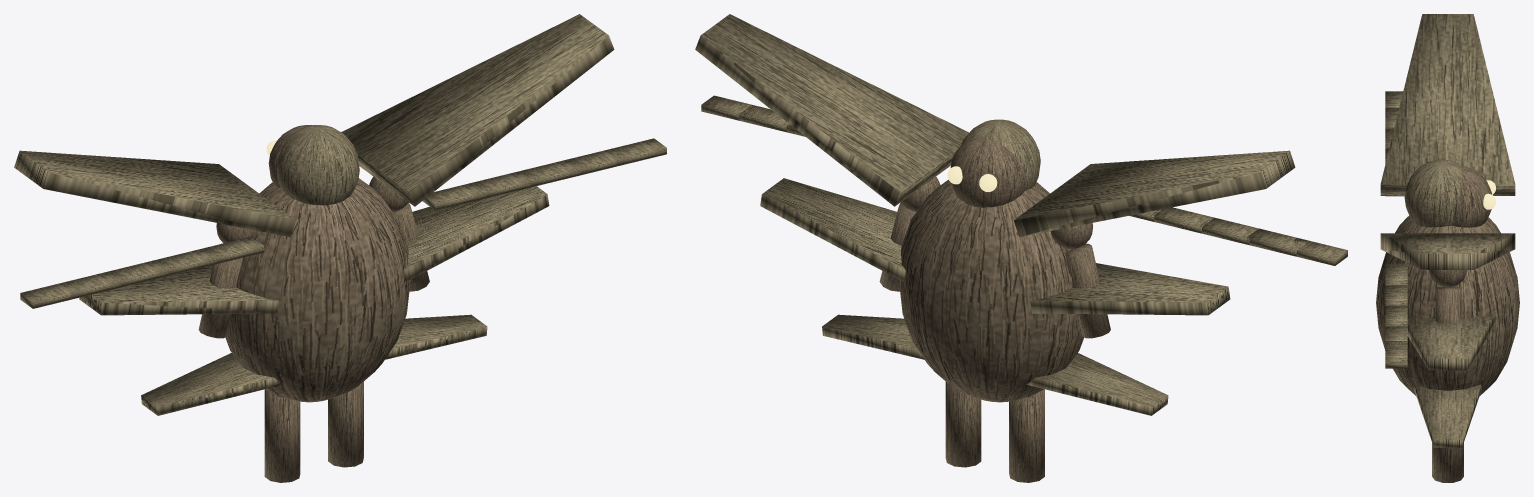
File: seraph.glb
The picture shows the model from 3 angles, left to right: view 1: azimuth 30°, elevation 25°; view 2: azimuth 150°, elevation 25°; view 3: azimuth 270°, elevation 25°; orthographic projection. The views are drawn at different scales.
Parts seen in each view (by area): view 1: Torso, WingHigh.001, WingHigh, WingMid.001, WingMid, HairStrands, WingLow, Leg, WingLow.001, Leg.001, Arm, Feather.005 (+10 smaller); view 2: Torso, WingHigh.001, WingHigh, WingMid.001, WingMid, WingLow, Head, Leg, Leg.001, WingLow.001, HairStrands, Arm (+8 smaller); view 3: WingHigh, Torso, WingHigh.001, WingMid.001, HairStrands, WingLow.001, Head, Leg.001, Arm.001, Feather.009, ShoulderJoint.001, Feather.005 (+6 smaller).
Part boxes in pixels (x1,y1,x2,y2): Torso: [225, 178, 410, 402]; WingHigh.001: [341, 14, 614, 206]; WingHigh: [14, 150, 295, 236]; WingMid.001: [403, 186, 549, 281]; WingMid: [79, 265, 278, 315]; HairStrands: [276, 125, 359, 205]; WingLow: [141, 353, 282, 415]; Leg: [264, 389, 300, 482]; WingLow.001: [384, 314, 487, 359]; Leg.001: [328, 381, 363, 467]; Arm: [198, 243, 242, 338]; Feather.005: [422, 182, 486, 210]; Torso: [899, 179, 1084, 402]; WingHigh.001: [695, 14, 968, 206]; WingHigh: [1014, 150, 1295, 237]; WingMid.001: [760, 178, 905, 281]; WingMid: [1030, 263, 1230, 315]; WingLow: [1026, 353, 1168, 415]; Head: [950, 137, 1026, 207]; Leg: [1009, 389, 1044, 482]; Leg.001: [945, 382, 981, 467]; WingLow.001: [822, 314, 924, 359]; HairStrands: [960, 119, 1040, 190]; Arm: [1065, 243, 1110, 338]; WingHigh: [1380, 14, 1515, 195]; Torso: [1376, 216, 1519, 395]; WingHigh.001: [1380, 233, 1515, 269]; WingMid.001: [1407, 312, 1495, 370]; HairStrands: [1404, 159, 1462, 227]; WingLow.001: [1414, 384, 1481, 447]; Head: [1451, 166, 1491, 227]; Leg.001: [1432, 443, 1463, 482]; Arm.001: [1435, 287, 1460, 323]; Feather.009: [1385, 341, 1407, 368]; ShoulderJoint.001: [1429, 270, 1466, 287]; Feather.005: [1385, 263, 1407, 285].
Bounding box in the file's own units: 2 × 1.13 × 0.448.
Materials: 4 (3 with a texture image).
